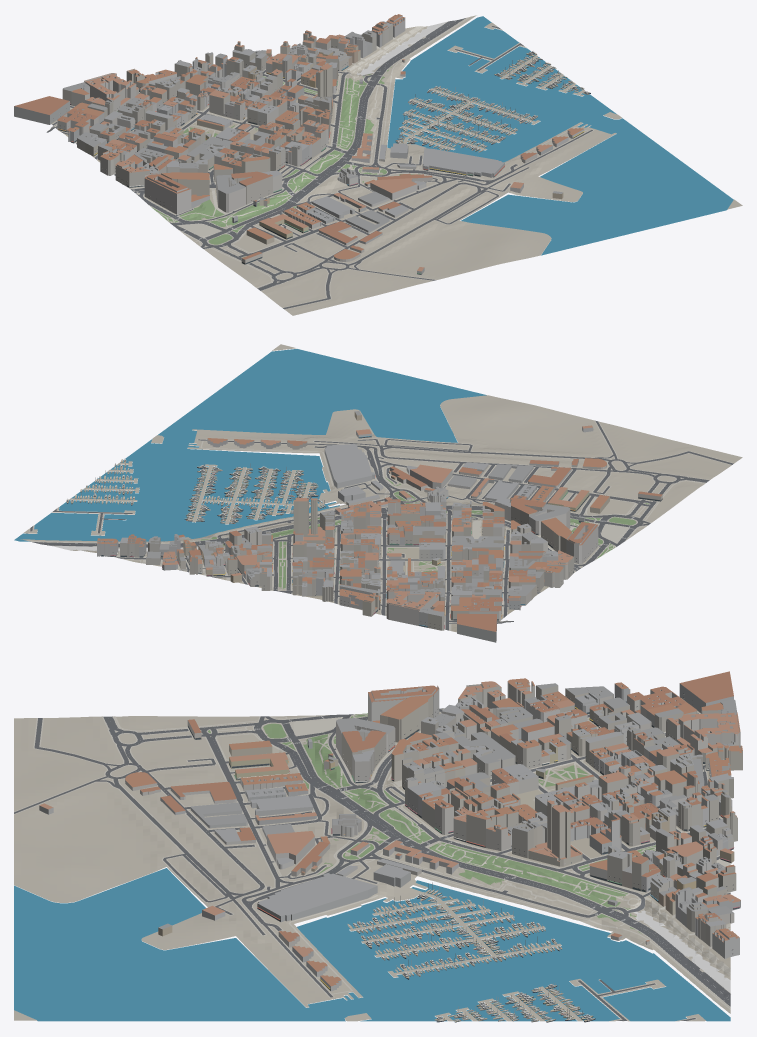
The picture shows the model from 3 angles, top to bottom: view 1: azimuth 30°, elevation 25°; view 2: azimuth 150°, elevation 25°; view 3: azimuth 270°, elevation 25°; orthographic projection. The views are drawn at different scales.
Parts seen in each view (by area): view 1: Water, Ground, Walls, Roofs, Sidewalk, Road, Boats, Park, Detail, Mosaic; view 2: Water, Ground, Walls, Roofs, Sidewalk, Road, Boats, Park, Detail; view 3: Water, Ground, Walls, Roofs, Road, Sidewalk, Boats, Park, Detail, Mosaic.
Boxes of the visible parts, bbox=[...] form: Water: bbox=[387, 16, 733, 255]; Ground: bbox=[51, 15, 742, 315]; Walls: bbox=[14, 15, 584, 274]; Roofs: bbox=[14, 14, 583, 271]; Sidewalk: bbox=[52, 16, 594, 309]; Road: bbox=[52, 18, 592, 309]; Boats: bbox=[395, 51, 590, 152]; Park: bbox=[151, 66, 420, 257]; Detail: bbox=[53, 46, 584, 274]; Mosaic: bbox=[357, 22, 446, 75]; Water: bbox=[14, 349, 486, 541]; Ground: bbox=[20, 344, 742, 632]; Walls: bbox=[97, 412, 662, 642]; Roofs: bbox=[97, 411, 662, 631]; Sidewalk: bbox=[26, 420, 733, 630]; Road: bbox=[30, 420, 733, 630]; Boats: bbox=[66, 459, 325, 523]; Park: bbox=[183, 477, 648, 588]; Detail: bbox=[101, 435, 662, 628]; Water: bbox=[14, 868, 730, 1021]; Ground: bbox=[14, 698, 730, 1021]; Walls: bbox=[39, 680, 742, 991]; Roofs: bbox=[39, 671, 742, 986]; Road: bbox=[14, 708, 730, 1020]; Sidewalk: bbox=[14, 708, 730, 1020]; Boats: bbox=[347, 882, 595, 1022]; Park: bbox=[208, 713, 655, 933]; Detail: bbox=[188, 693, 739, 990]; Mosaic: bbox=[634, 910, 730, 992].
Bounding box in the file's own units: 1047 × 102 × 1017.
